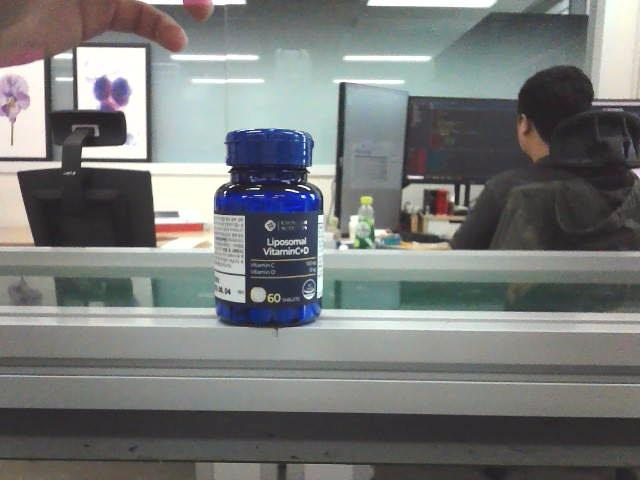labeled: (209, 124, 327, 329)
